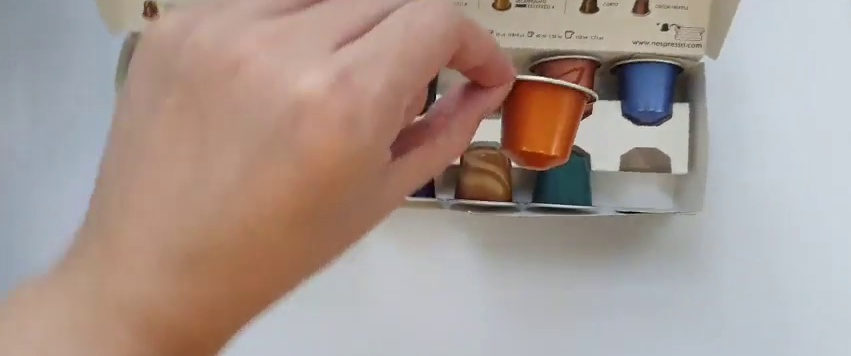capsule_5: (493, 73, 601, 171)
